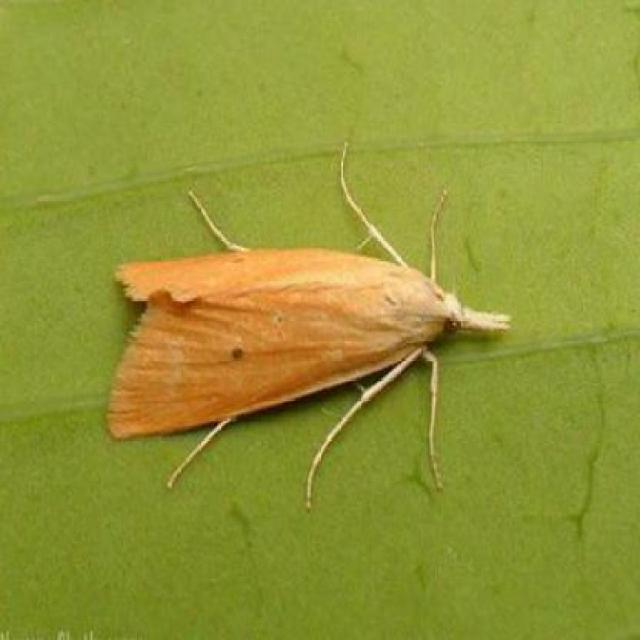stem-borer: (103, 180, 514, 482)
